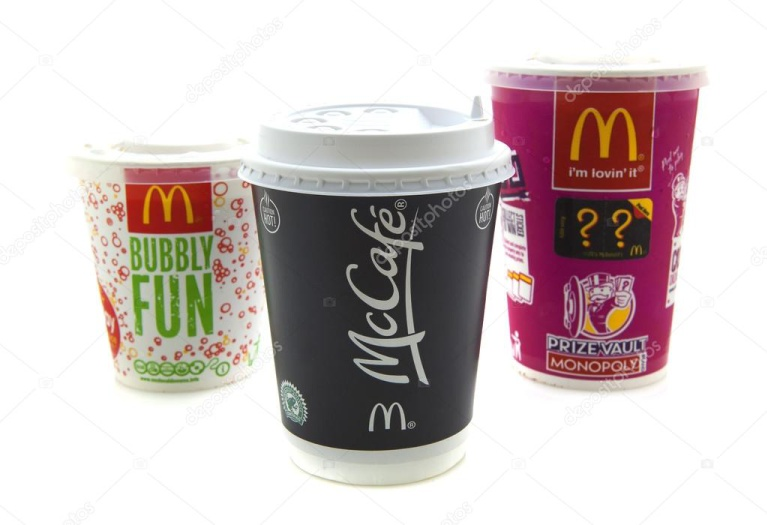mcdonalds: (562, 104, 648, 171), (140, 184, 197, 229)
